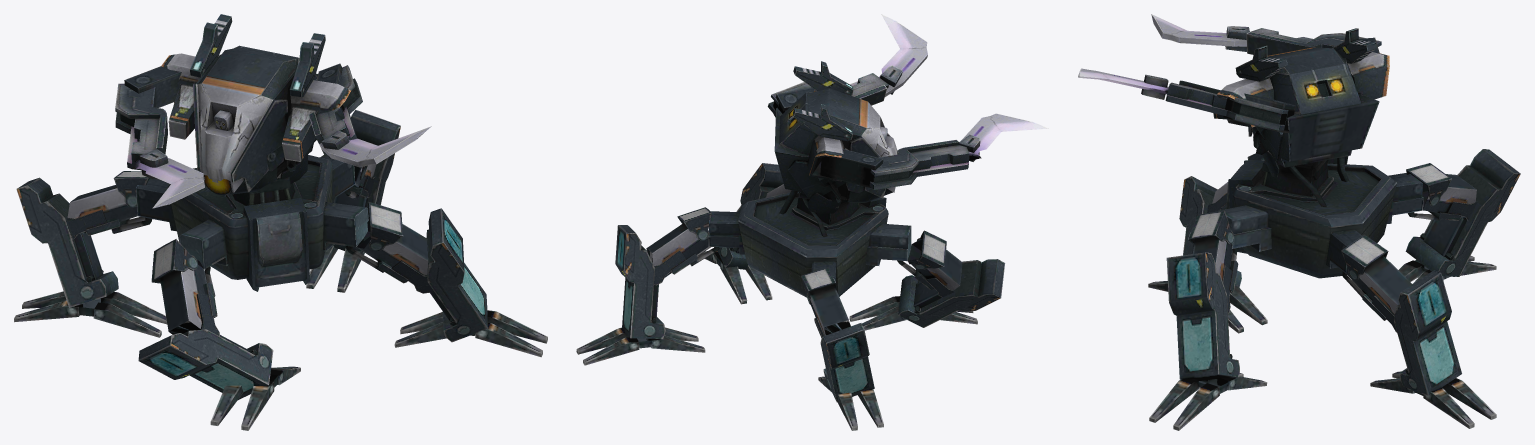
3 renders of one model, left to right at view 1: azimuth 30°, elevation 25°; view 2: azimuth 150°, elevation 25°; view 3: azimuth 270°, elevation 25°, orthographic. The views are drawn at different scales.
Visible parts, largest first — view 1: 20_10; view 2: 20_10; view 3: 20_10.
Part boxes in pixels (x1,y1,x2,y2): 20_10: [14, 14, 547, 430]; 20_10: [576, 14, 1048, 430]; 20_10: [1078, 14, 1520, 430].
Bounding box in the file's own units: 333 × 245 × 330.
